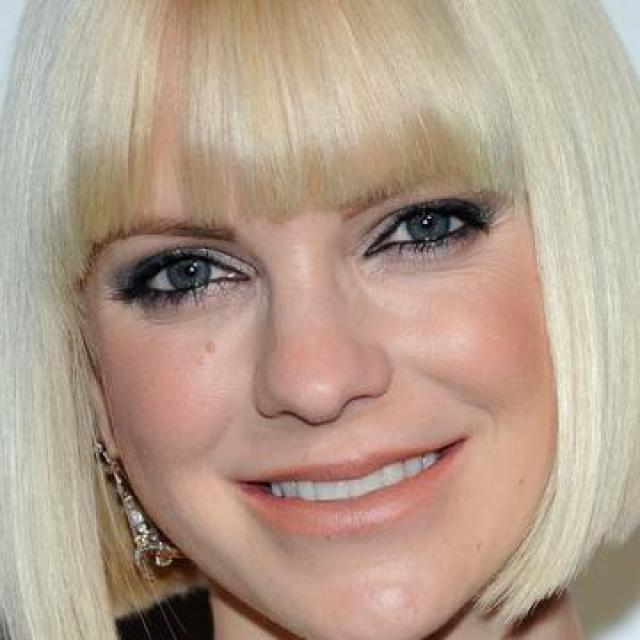Normal: (76, 31, 558, 638)
